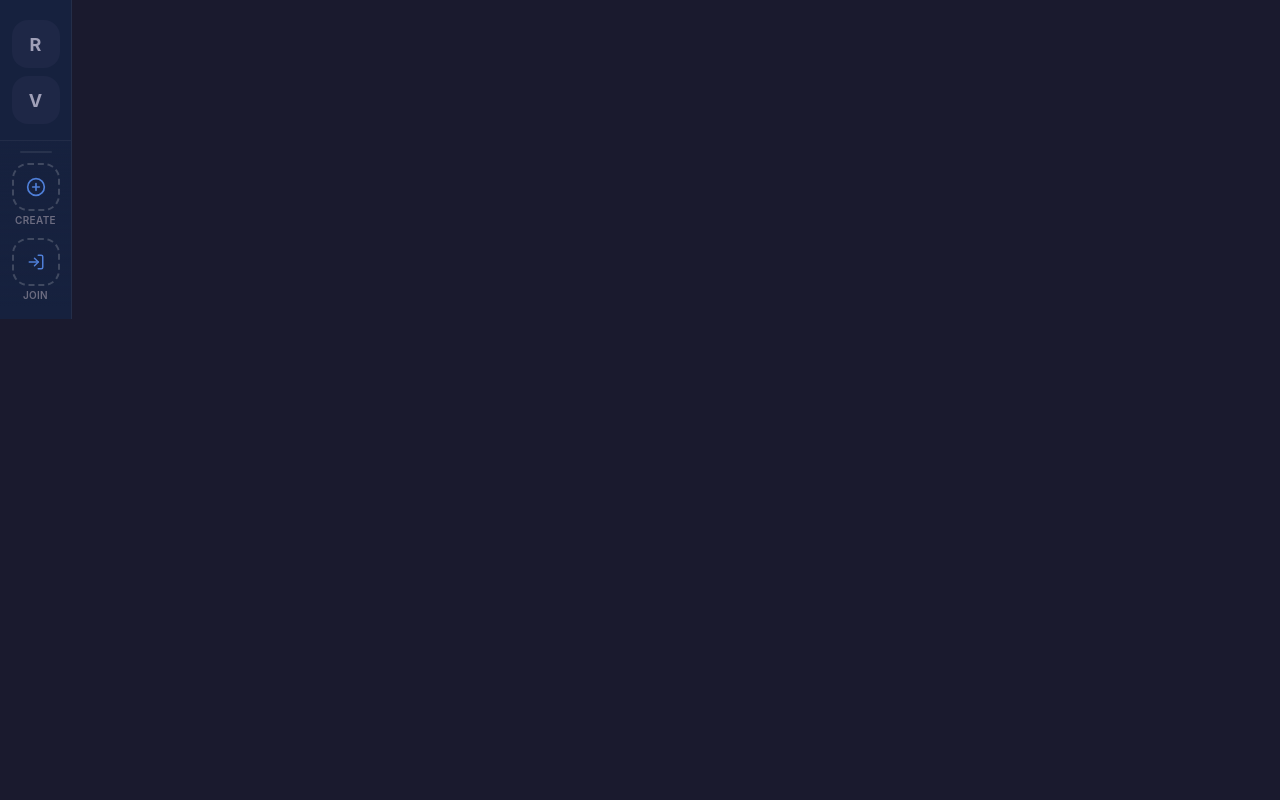
ServerSidebar leave actions › keeps Leave Server for a different server even if it shares the Voxpery name
The width and height of the screenshot is (1280, 800).
Step 1. Right-click the button named "Voxpery" → (36, 100), box [12,76,60,124]
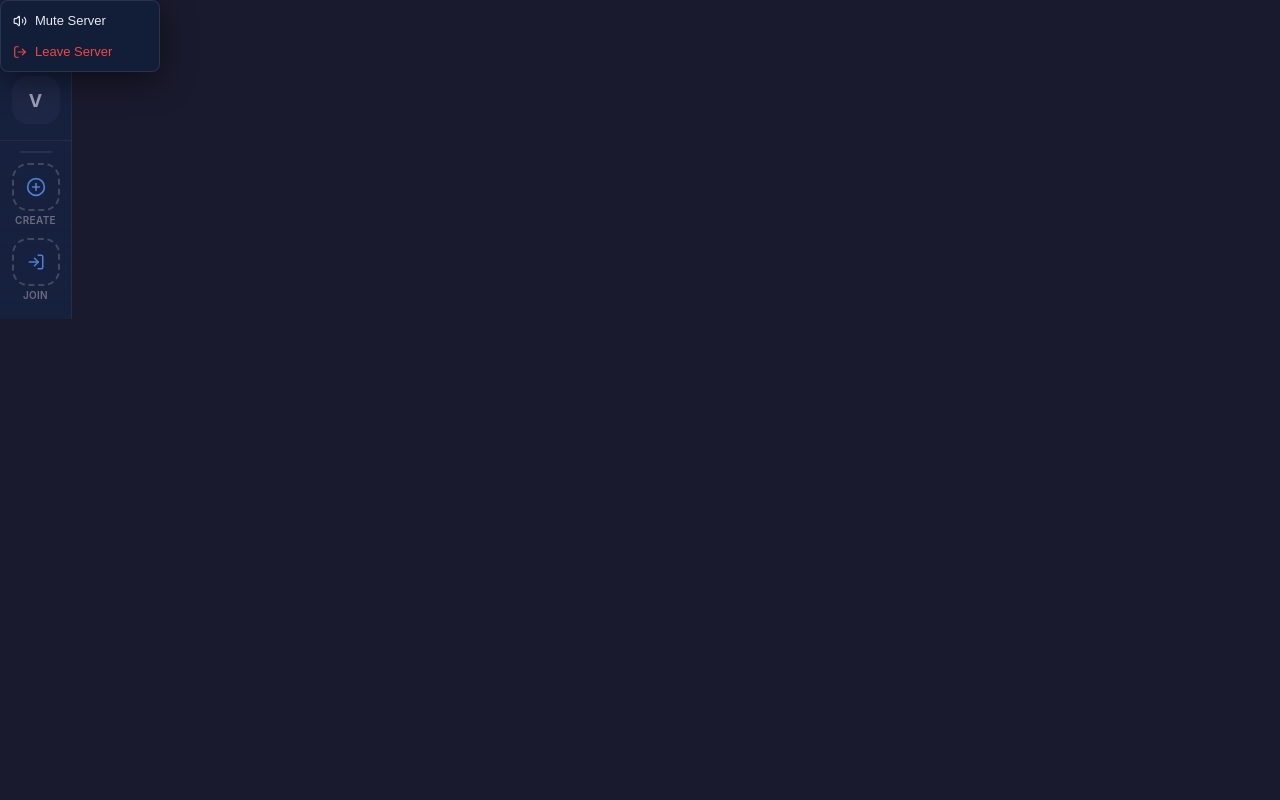
Step 2. Click the button "Leave Server" → (80, 52), box [1,36,159,67]
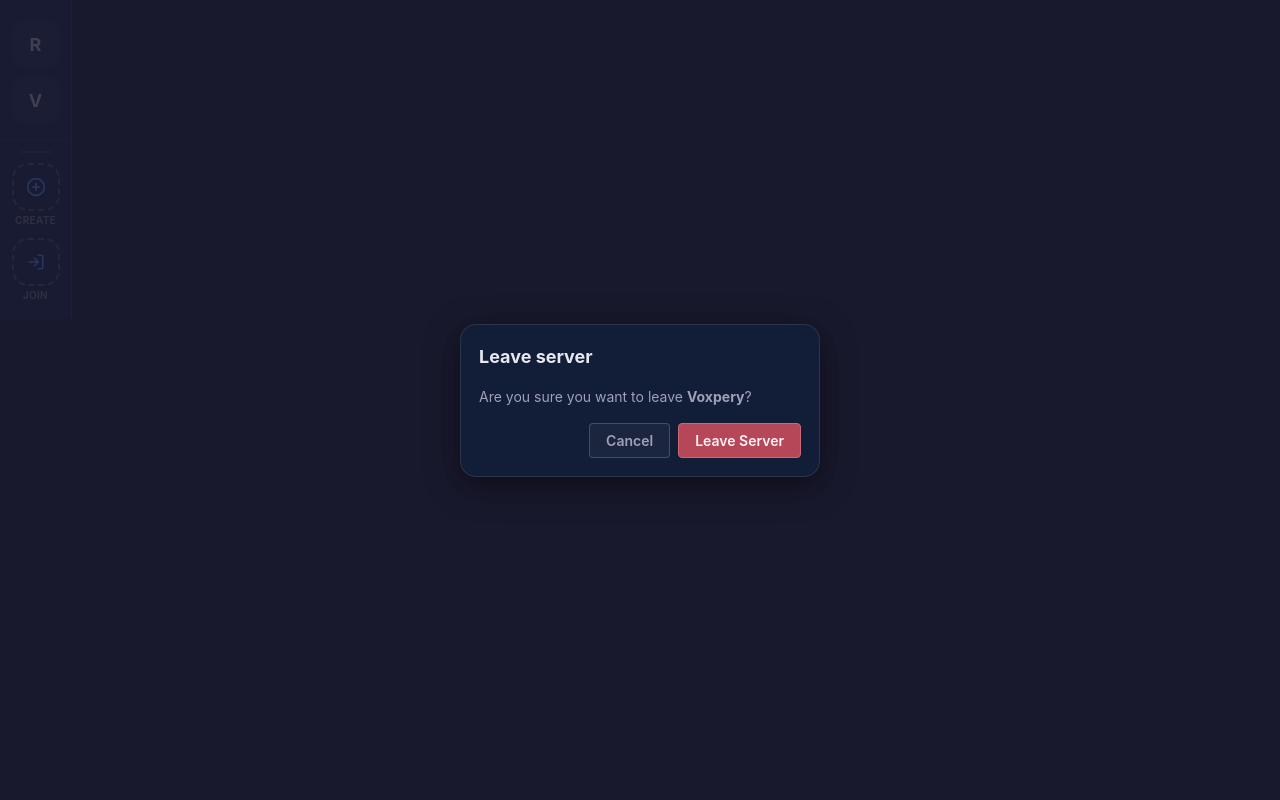
Now the text "Are you sure you want to leave Voxpery?" is shown, box [479,388,752,404]
Now the button "Cancel" is shown, box [589,422,670,458]
